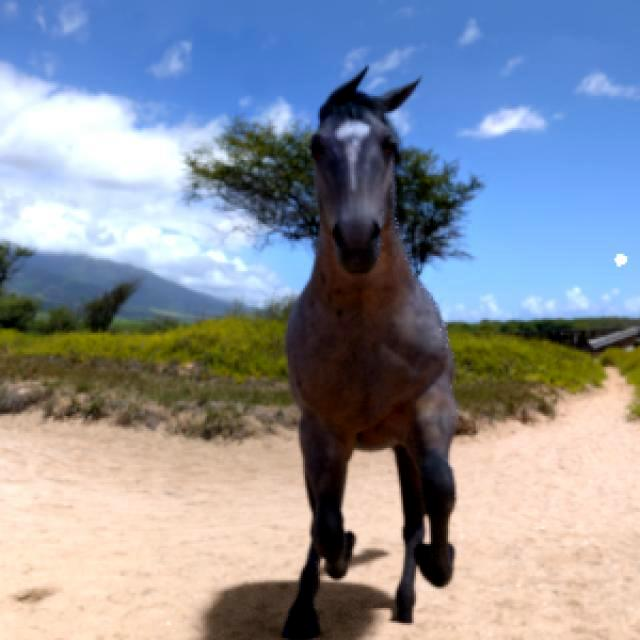horse: (282, 70, 454, 637)
